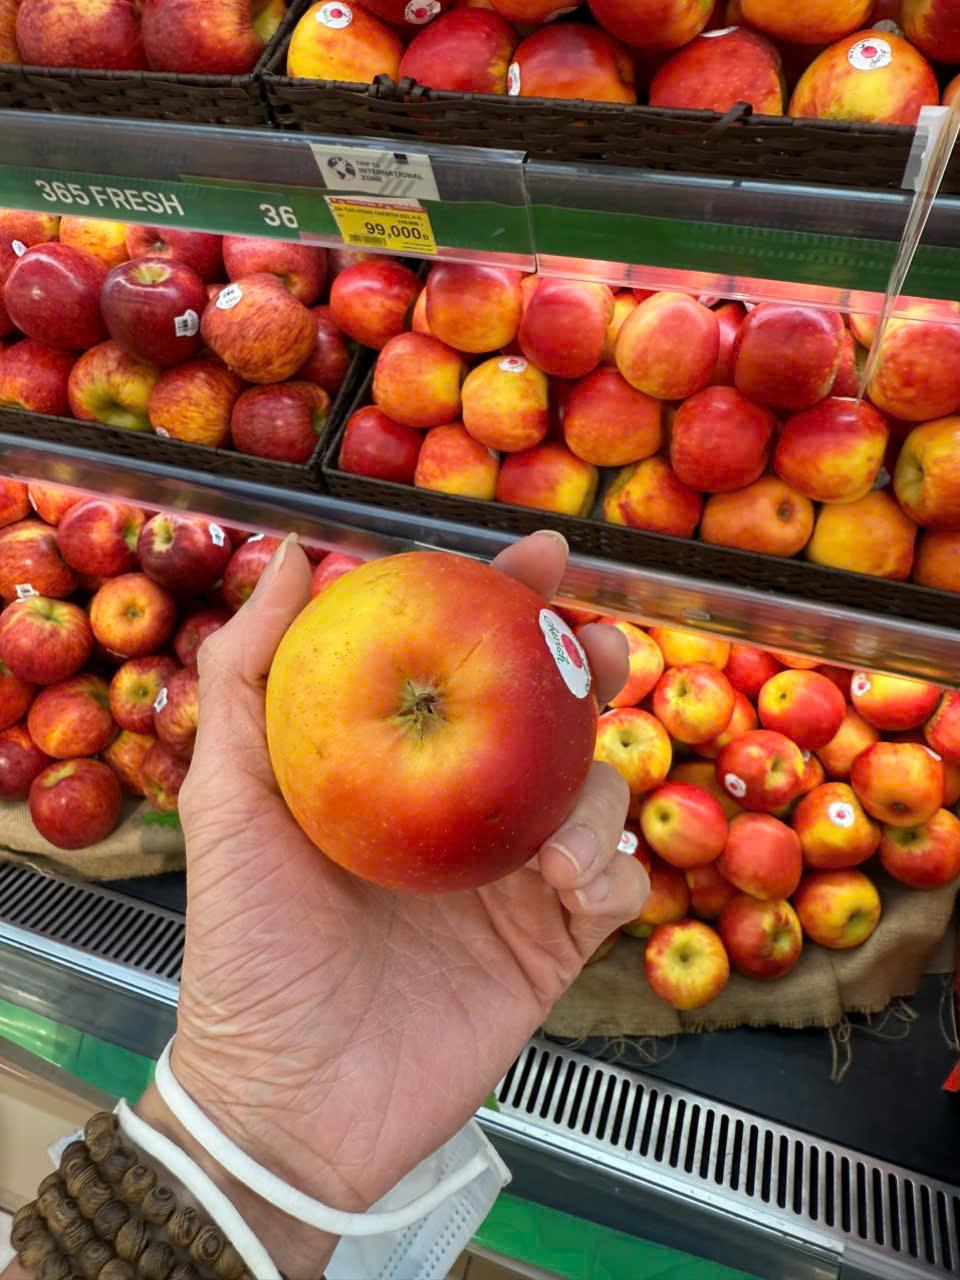apple: (257, 535, 604, 910), (732, 290, 844, 419), (617, 290, 720, 409), (0, 233, 98, 354), (208, 265, 310, 378), (453, 351, 556, 462), (777, 395, 887, 498), (678, 378, 775, 490), (563, 363, 657, 478), (415, 255, 517, 358), (372, 326, 458, 445), (105, 255, 206, 354), (865, 310, 960, 413), (642, 908, 736, 1004), (530, 275, 608, 388), (325, 253, 417, 344), (760, 663, 852, 752), (30, 763, 124, 850), (605, 458, 698, 543), (233, 378, 318, 470), (70, 341, 152, 431), (7, 593, 90, 683), (635, 788, 726, 870), (718, 483, 810, 557), (725, 905, 808, 988), (659, 653, 730, 750), (815, 498, 908, 571), (857, 741, 940, 821), (798, 873, 881, 951), (88, 573, 175, 646), (30, 685, 106, 768), (805, 788, 879, 872), (725, 813, 802, 894), (340, 410, 419, 486), (730, 731, 814, 802), (419, 428, 506, 494), (0, 338, 66, 419), (507, 445, 590, 506), (162, 363, 224, 441)
